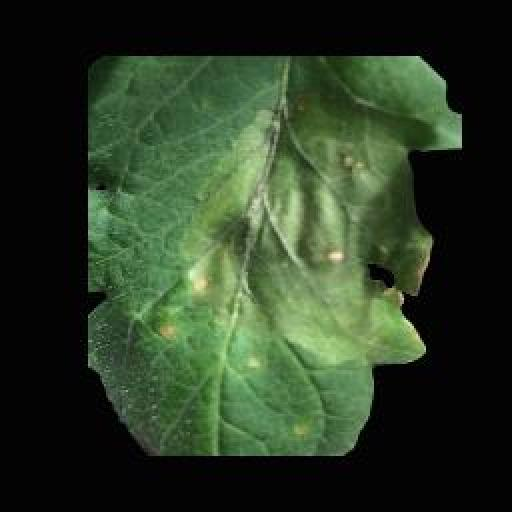Late Blight: (87, 56, 460, 456)
